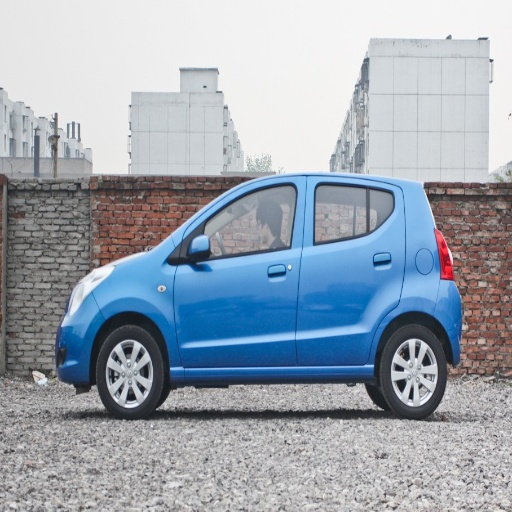back_left_door: (297, 179, 405, 364)
front_left_door: (175, 181, 305, 366)
